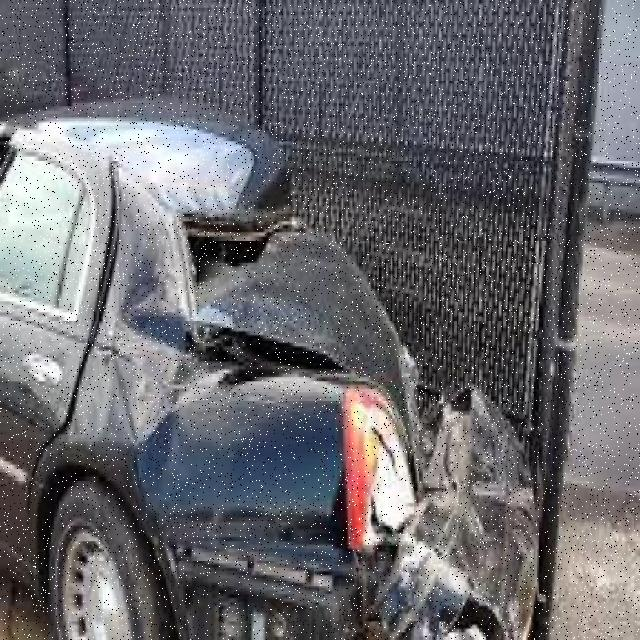damage: (118, 157, 539, 640)
